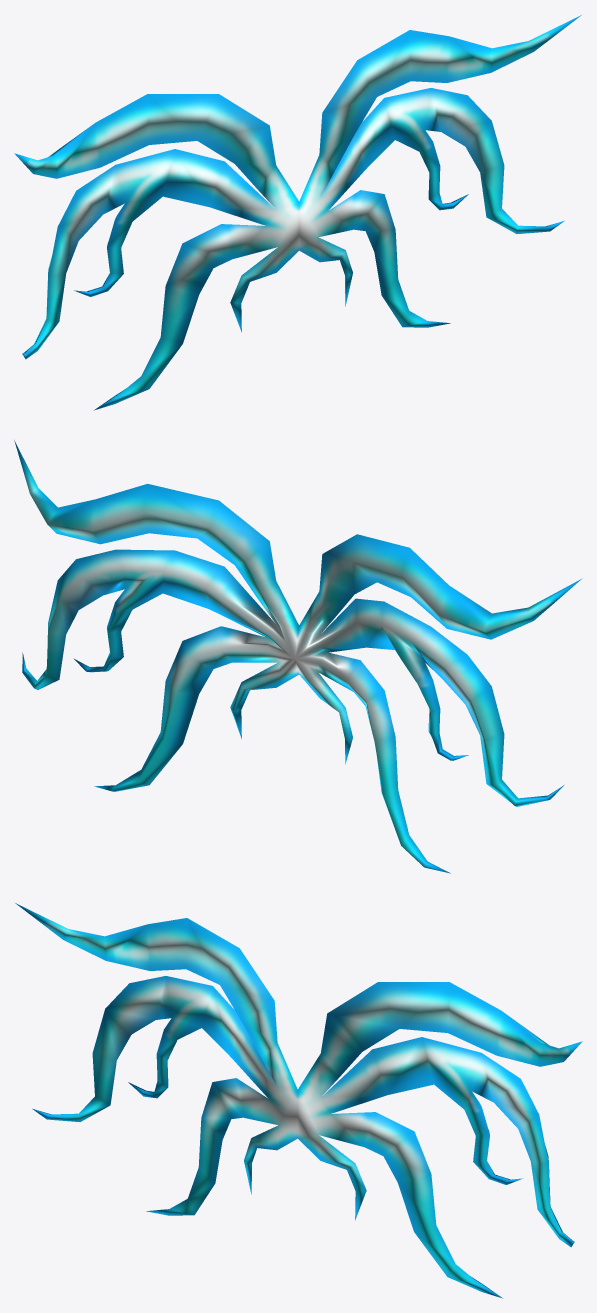
The picture shows the model from 3 angles, top to bottom: view 1: azimuth 30°, elevation 25°; view 2: azimuth 150°, elevation 25°; view 3: azimuth 330°, elevation 25°; orthographic projection.
Visible parts, largest first — view 1: 3_Z_90; view 2: 3_Z_90; view 3: 3_Z_90.
Boxes of the visible parts, <box> form: 3_Z_90: <box>14,15,581,410</box>; 3_Z_90: <box>14,440,582,873</box>; 3_Z_90: <box>15,903,582,1298</box>.
Size of the model in its own units: 357 by 37.32 by 186.
